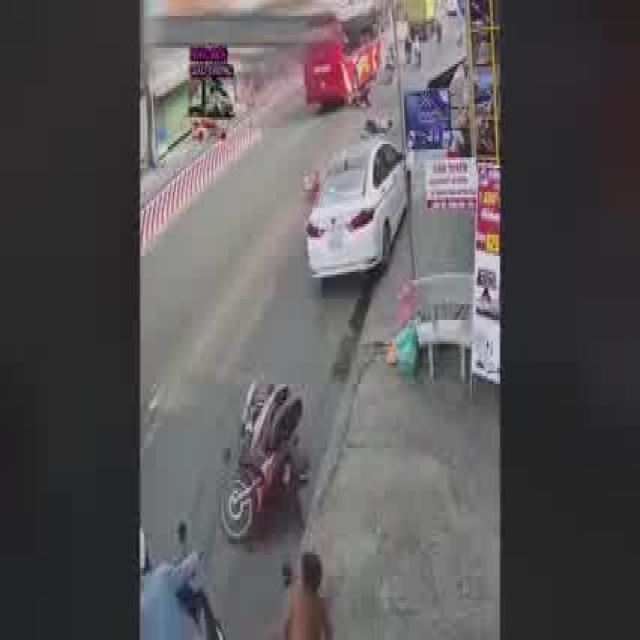multiple_accident: (212, 370, 313, 551), (360, 111, 399, 143)
